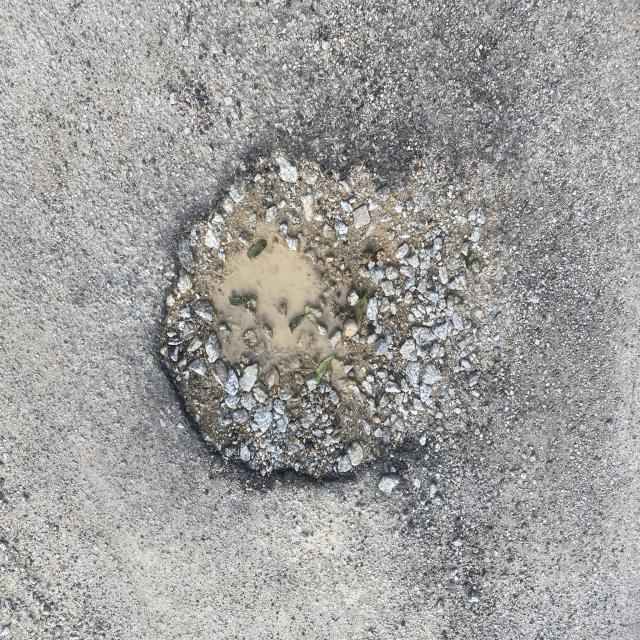pothole: (138, 125, 489, 596)
